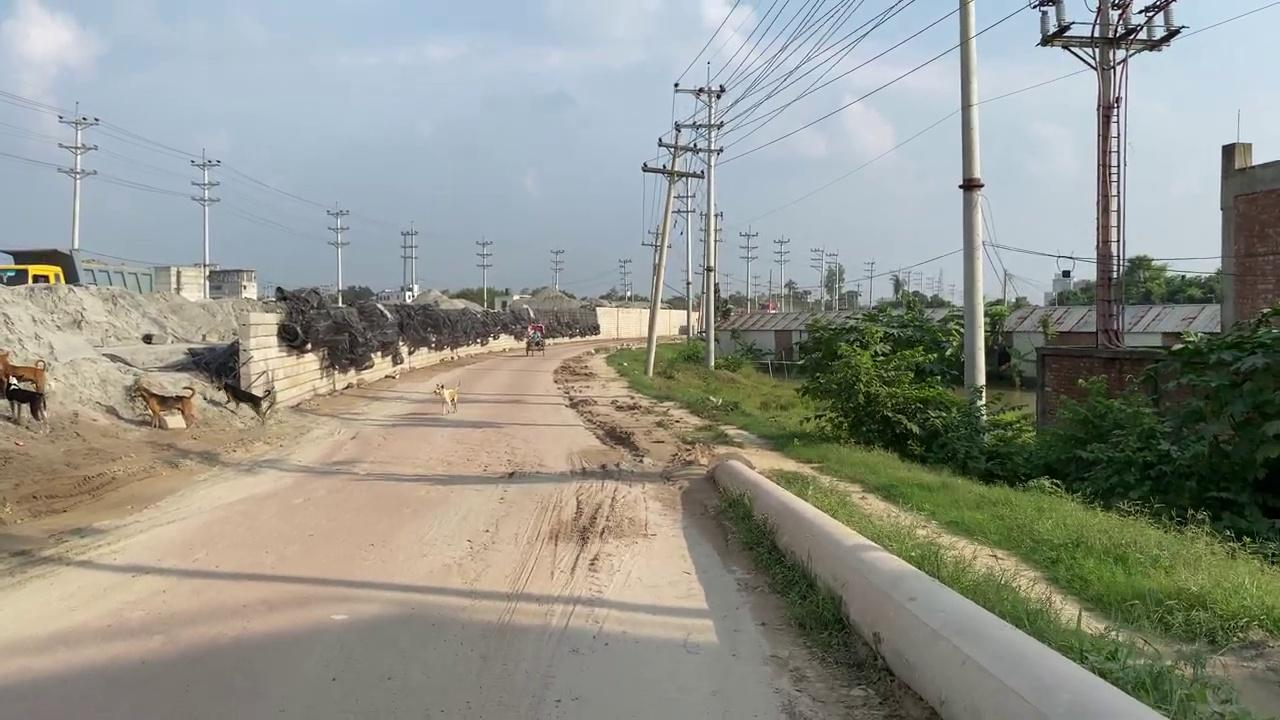Dog: (211, 374, 275, 424), (135, 382, 196, 429), (3, 379, 47, 425), (432, 379, 461, 415)
Pole: (709, 454, 1169, 718), (958, 0, 987, 428), (1093, 0, 1115, 347)
Tree: (0, 263, 65, 286)
